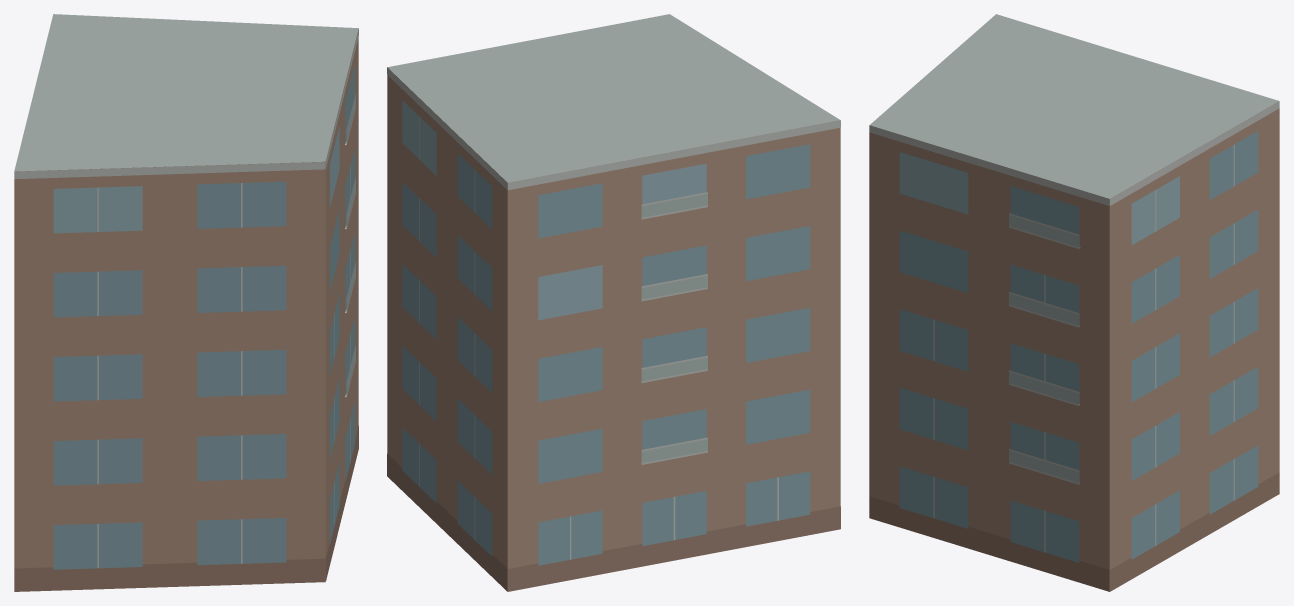
Rendered from survey-upis-33042201.glb.
3 renders of one model, left to right at view 1: azimuth 30°, elevation 25°; view 2: azimuth 150°, elevation 25°; view 3: azimuth 270°, elevation 25°, orthographic. The views are drawn at different scales.
Parts seen in each view (by area): view 1: survey-upis-33042201.tmp; view 2: survey-upis-33042201.tmp; view 3: survey-upis-33042201.tmp.
Part boxes in pixels (left/top/right/bottom): survey-upis-33042201.tmp: left=14, top=14, right=358, bottom=591; survey-upis-33042201.tmp: left=387, top=14, right=840, bottom=591; survey-upis-33042201.tmp: left=869, top=14, right=1279, bottom=591.
Bounding box in the file's own units: 13.43 × 13.3 × 12.59.
